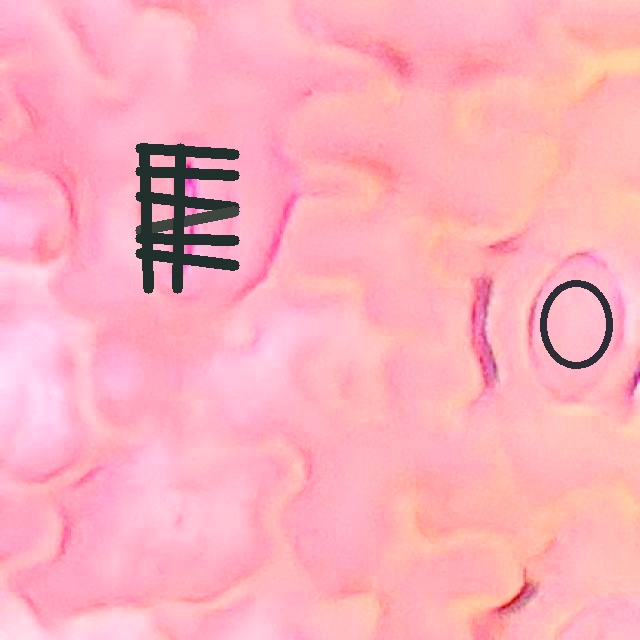close: (540, 280, 612, 369)
open: (135, 143, 238, 293)
